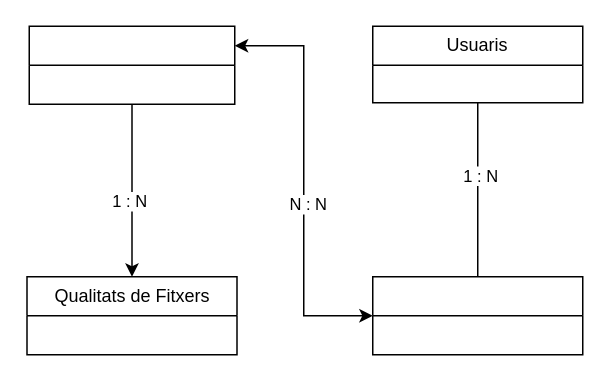
This 609x381 diagram has some shape labels left out. Here are the shapes that lost their labels. From the top down, the centre of each, then its label:
At point 131,64: "Cançons".
At point 477,315: "Llista de Reproducció".
